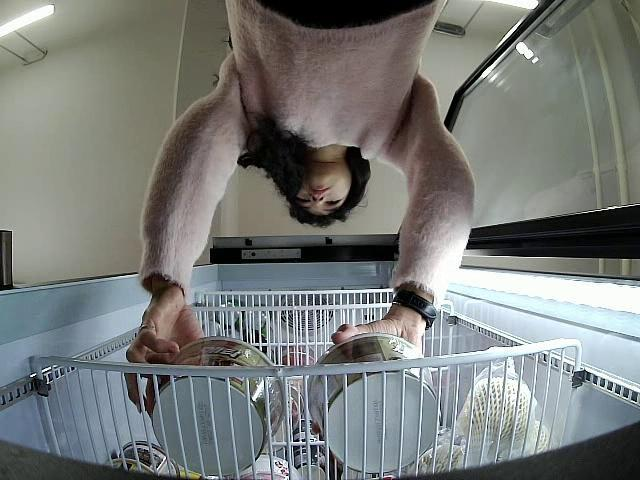03_chapagetti_L: (305, 332, 437, 474), (152, 339, 284, 480)
